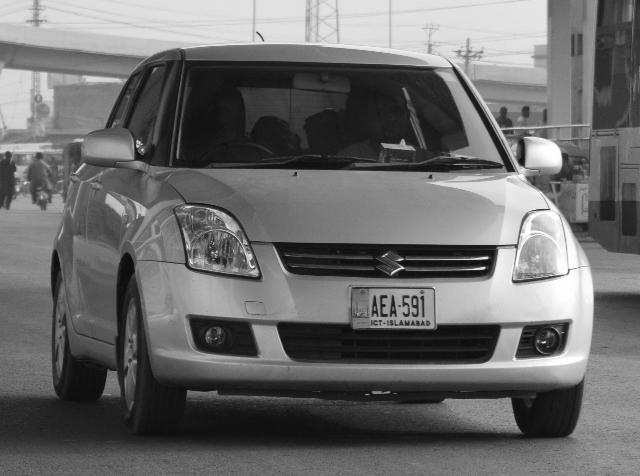Number: (371, 292, 427, 318)
